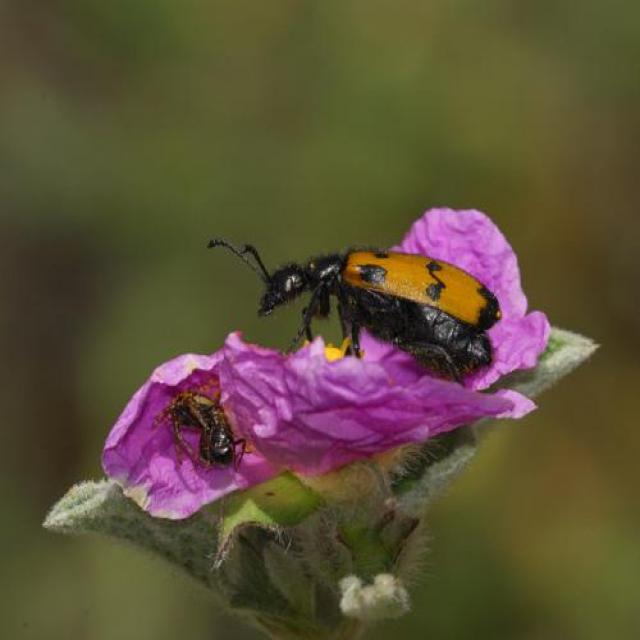BlisterBeetle-Adult-: (197, 224, 501, 384)
